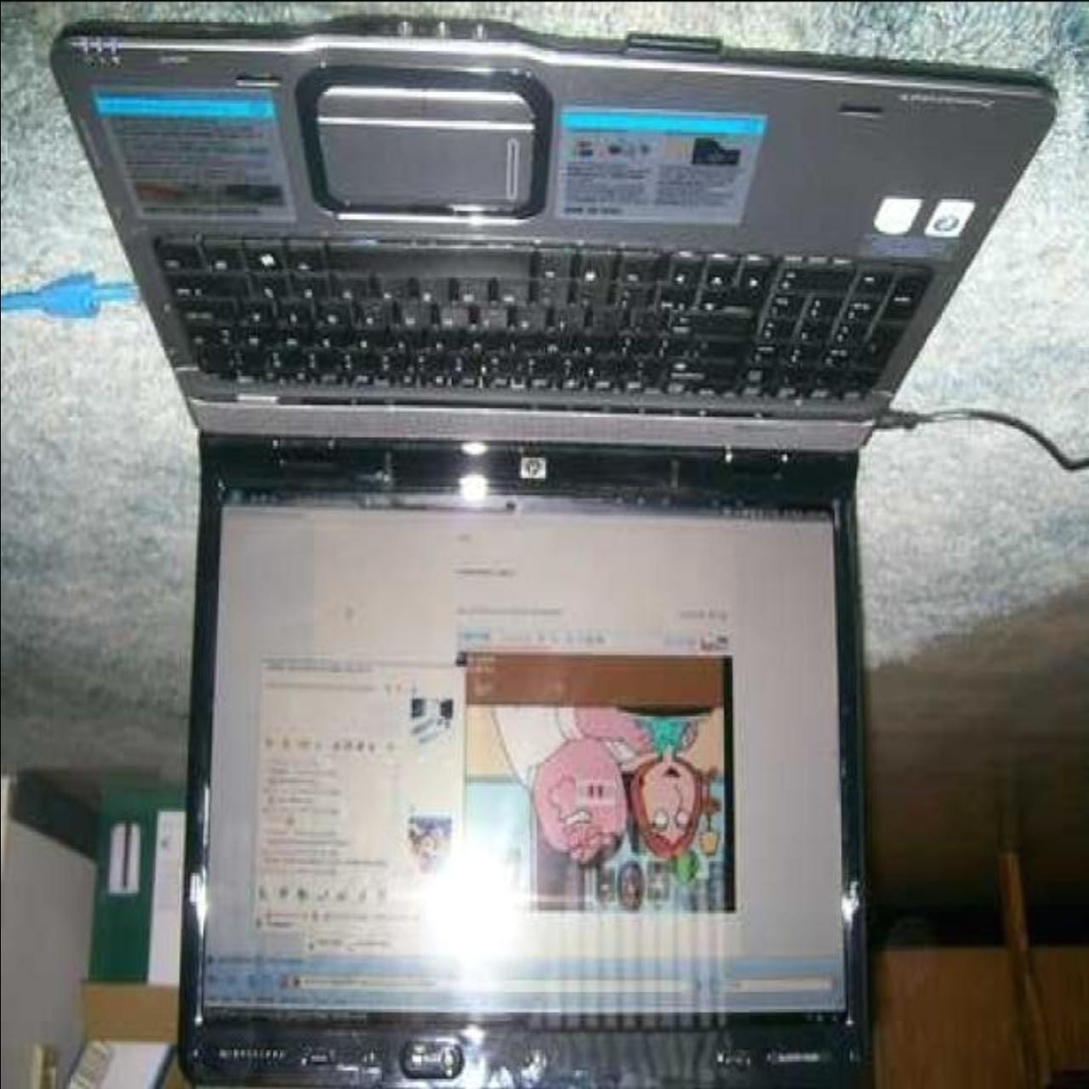laptop: (68, 16, 1075, 1039)
